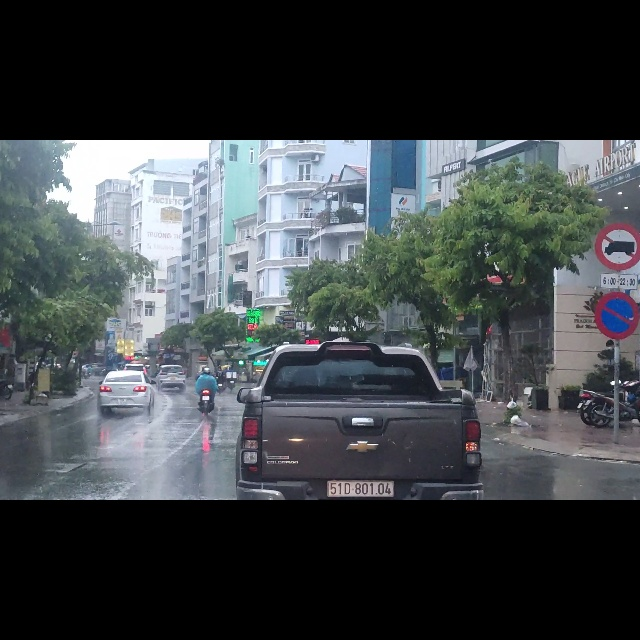bien_cam: (594, 146, 640, 233), (594, 268, 639, 354)
